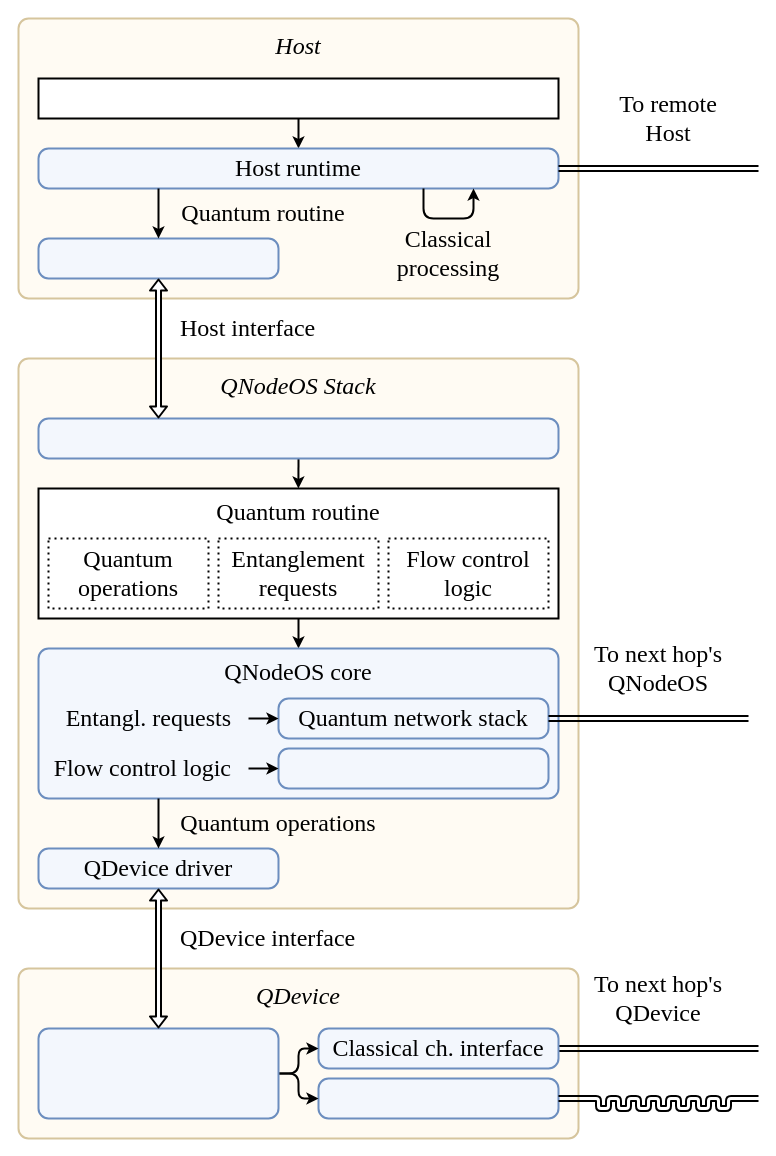
The diagram is 776 pixels wide and 1156 high, and some of its shapes have lost their labels. The shapes that lost their labels are listed below. From the top down, each one's centre as x and y in pixels, then its label:
pixel 298 98: User application
pixel 158 258: Co-processor driver
pixel 298 438: Host communication handler
pixel 413 768: Local processor
pixel 158 1073: QDevice processing stack
pixel 438 1098: Quantum ch. interface
